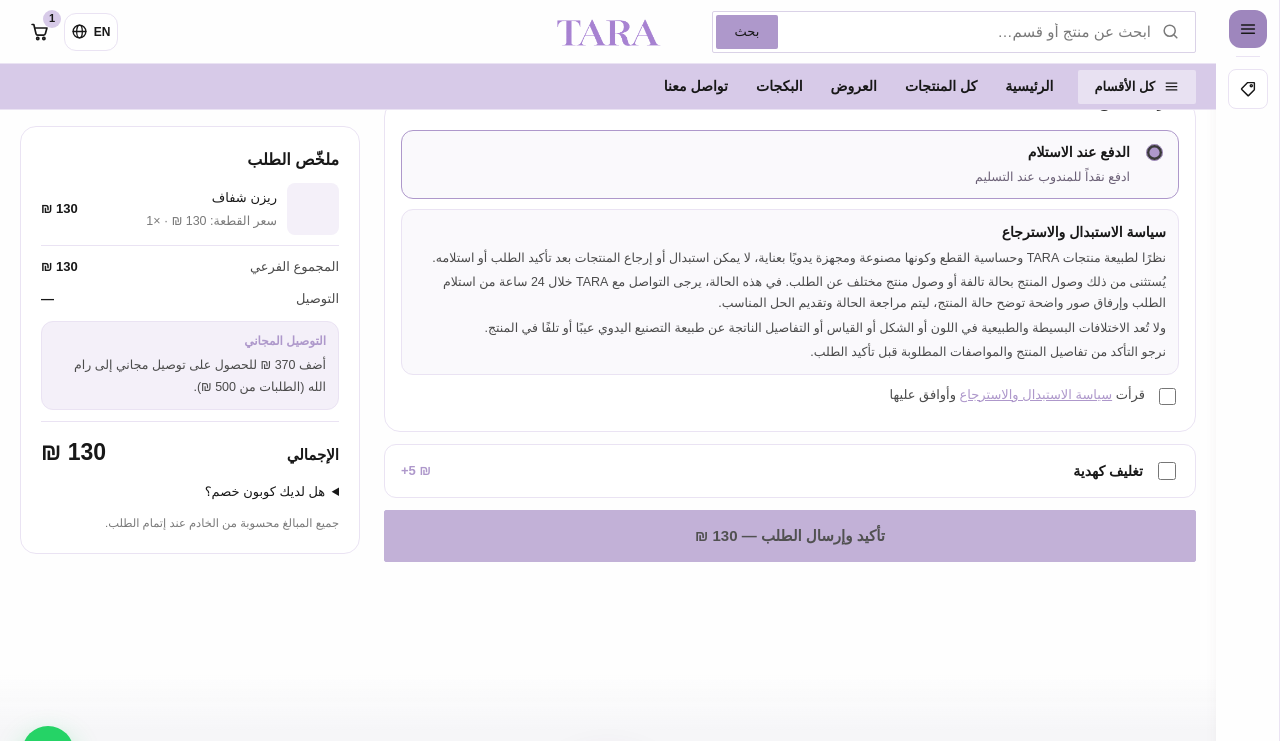
Test: storefront packaging › submits gift packaging only when the checkbox is selected
(page scrolled)
Step 1. Click the checkbox labelled "تغليف كهدية +5 ₪" → (1167, 471), box [1158,462,1176,480]
(page scrolled)
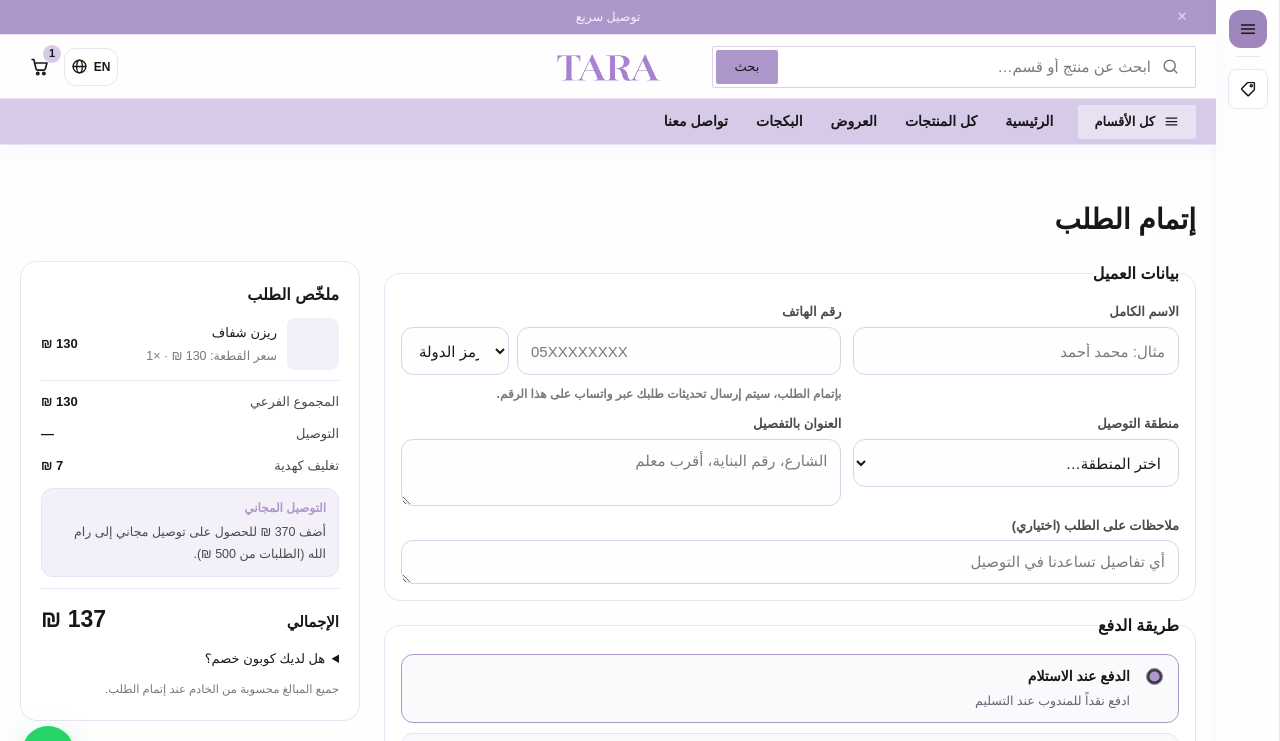
Step 2. Type "سارة أحمد" into the field labelled "الاسم الكامل" → (1016, 351), box [854,327,1179,375]
Step 3. Select "+970" in the dropdown named "رمز الدولة" → (455, 351), box [401,327,509,375]
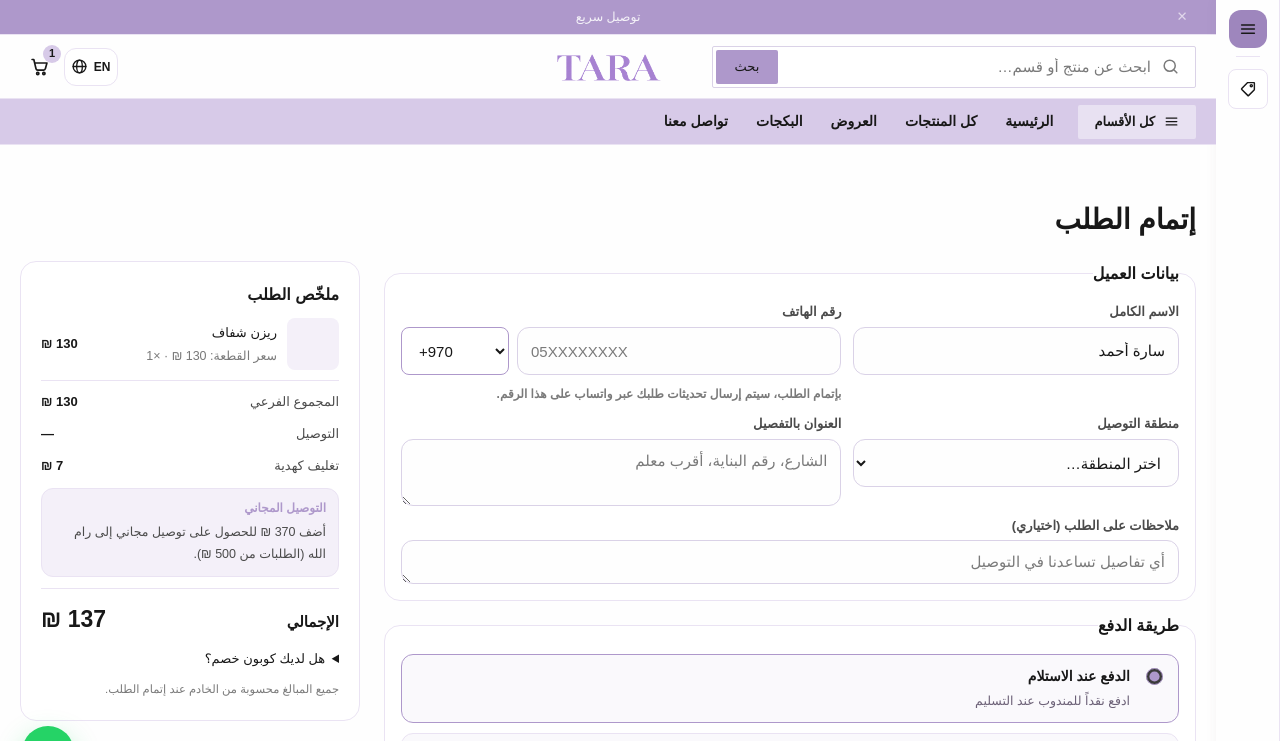
Step 4. Type "0591234567" into the field named "رقم الهاتف" → (679, 351), box [517,327,842,375]
Step 5. Type "رام الله، شارع الإرسال" into the text box labelled "العنوان بالتفصيل" → (621, 472), box [401,439,842,506]
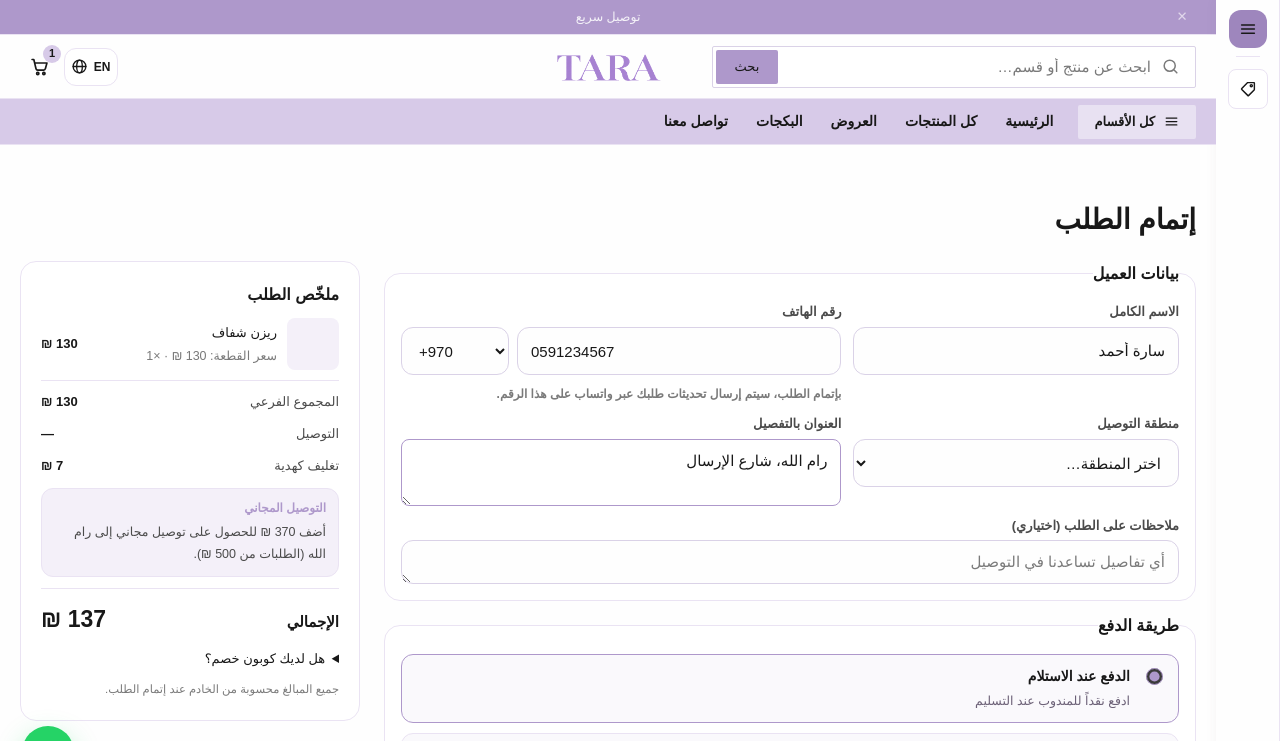
Step 6. Select "رام الله — 20 ₪ · يومان" in the dropdown labelled "منطقة التوصيل" → (1016, 463), box [854,439,1179,487]
(page scrolled)
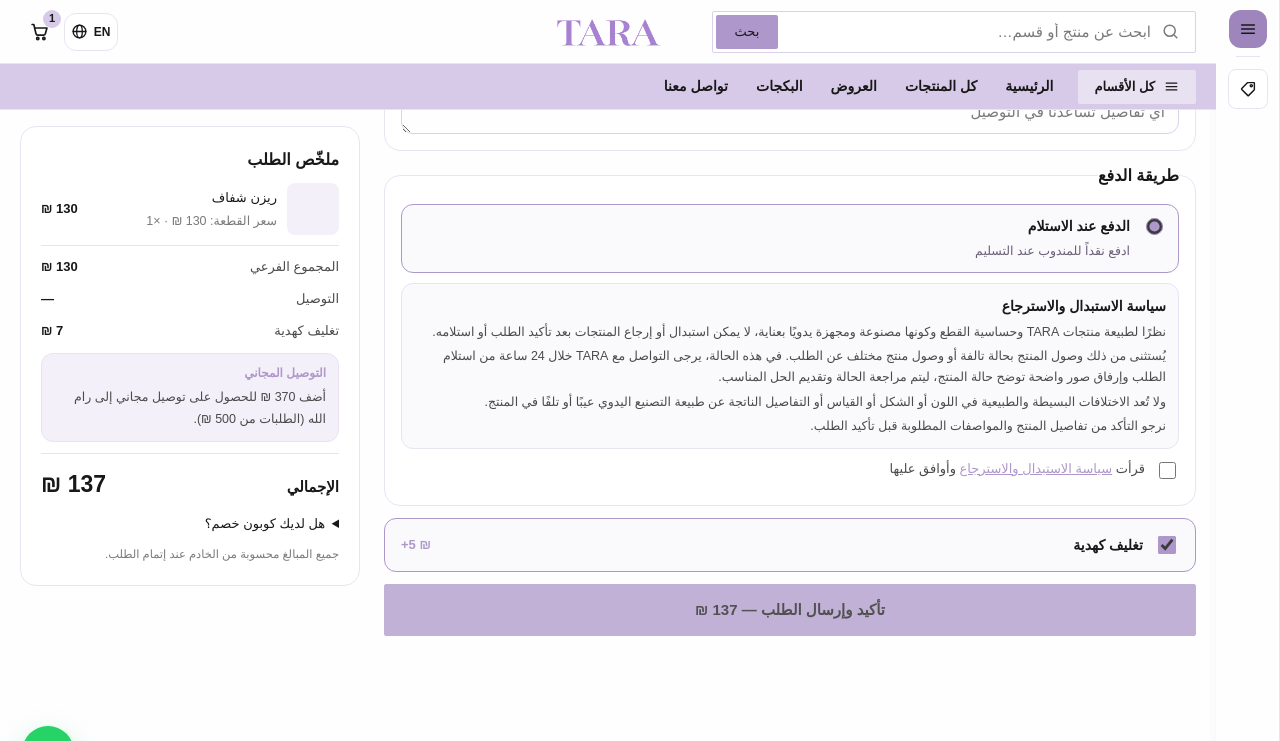
Step 7. Click the checkbox labelled "قرأت سياسة الاستبدال والاسترجاع وأوافق عليها" → (1168, 470), box [1159,462,1176,479]
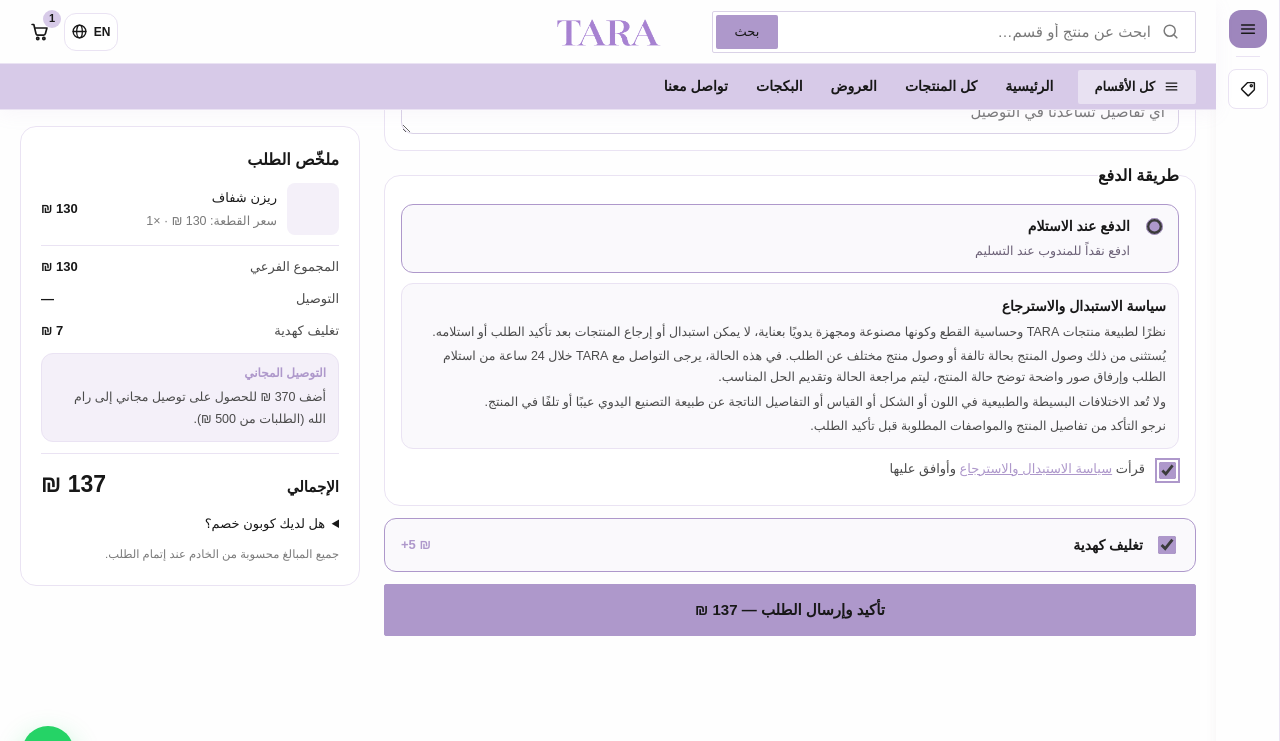
Now the button "تأكيد وإرسال الطلب — 137 ₪" is enabled
Step 8. Click the button "تأكيد وإرسال الطلب — 137 ₪" → (790, 610), box [384,584,1196,636]
(page scrolled)
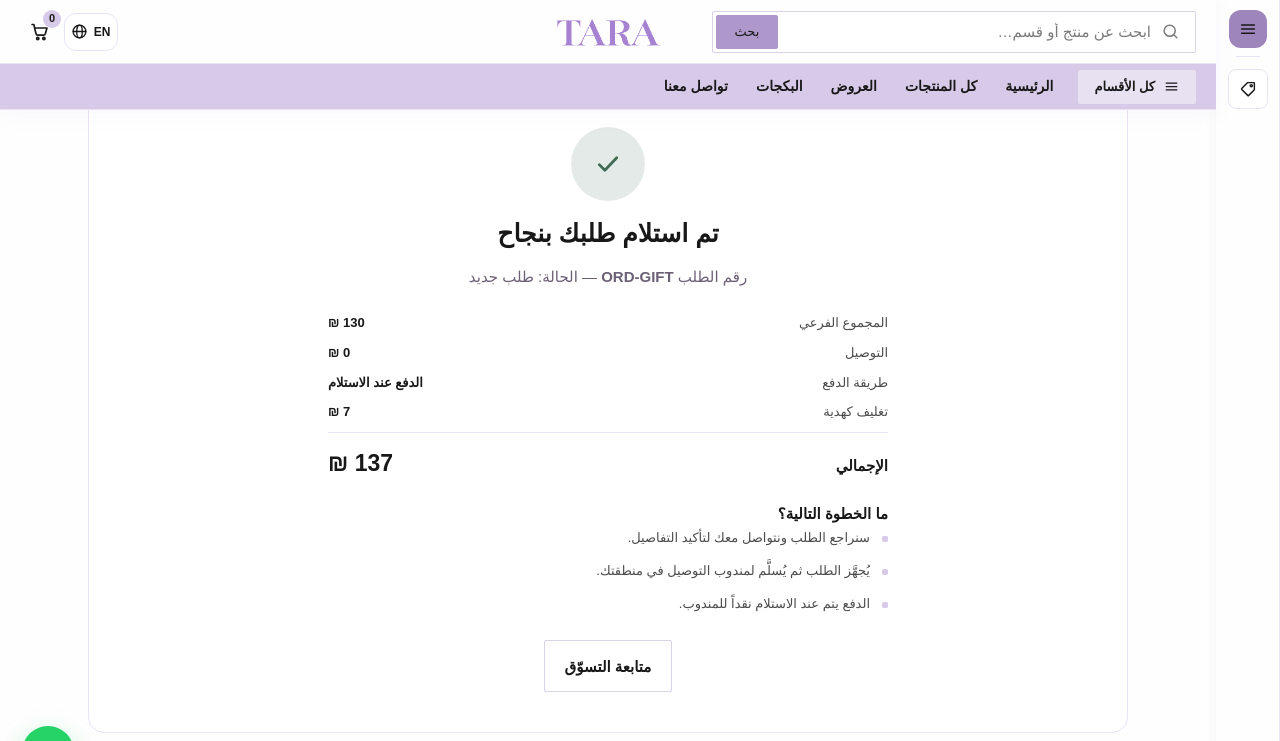
Now the text "7 ₪" is shown, box [328,402,350,423]
Now the element showing "الإجمالي 137 ₪" is shown, box [328,432,888,482]
Now the heading "تم استلام طلبك بنجاح" is shown, box [497,213,719,253]
